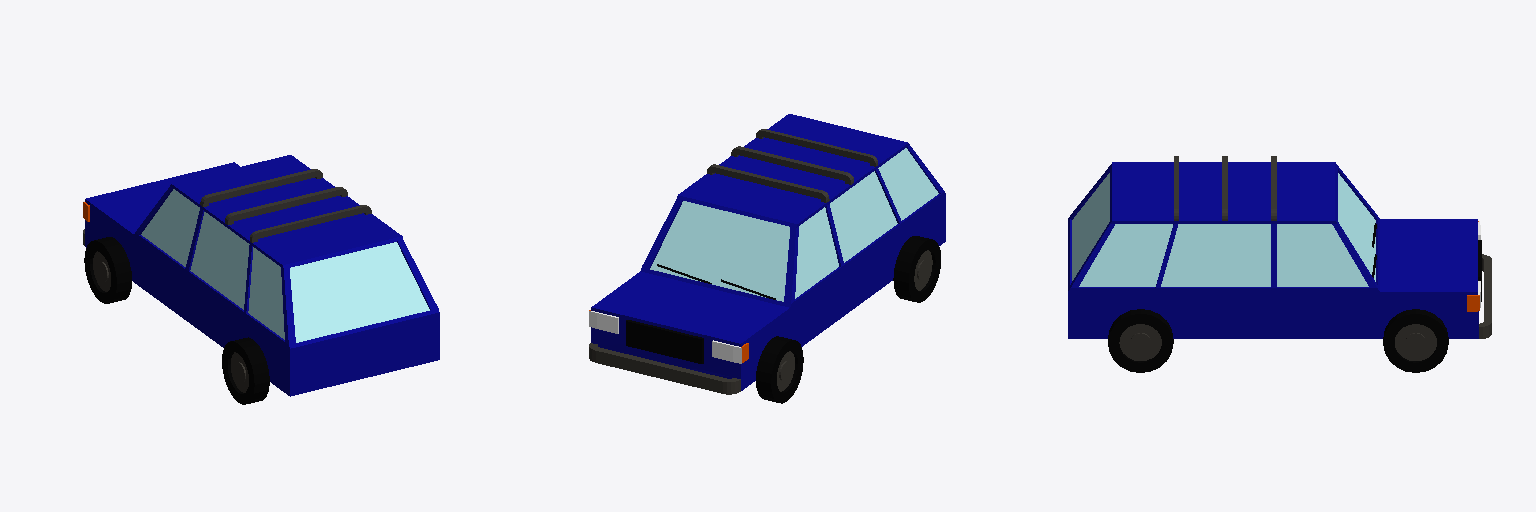
Rendered from Roofracks_Blue.obj.
3 renders of one model, left to right at view 1: azimuth 30°, elevation 25°; view 2: azimuth 150°, elevation 25°; view 3: azimuth 270°, elevation 25°, orthographic.
Visible parts, largest first — view 1: Roofracks_Blue; view 2: Roofracks_Blue; view 3: Roofracks_Blue.
Part boxes in pixels (bbox=[...]): Roofracks_Blue: bbox=[83, 155, 439, 404]; Roofracks_Blue: bbox=[589, 114, 945, 403]; Roofracks_Blue: bbox=[1068, 156, 1491, 372].
Size of the model in its own units: 172 by 140 by 362.